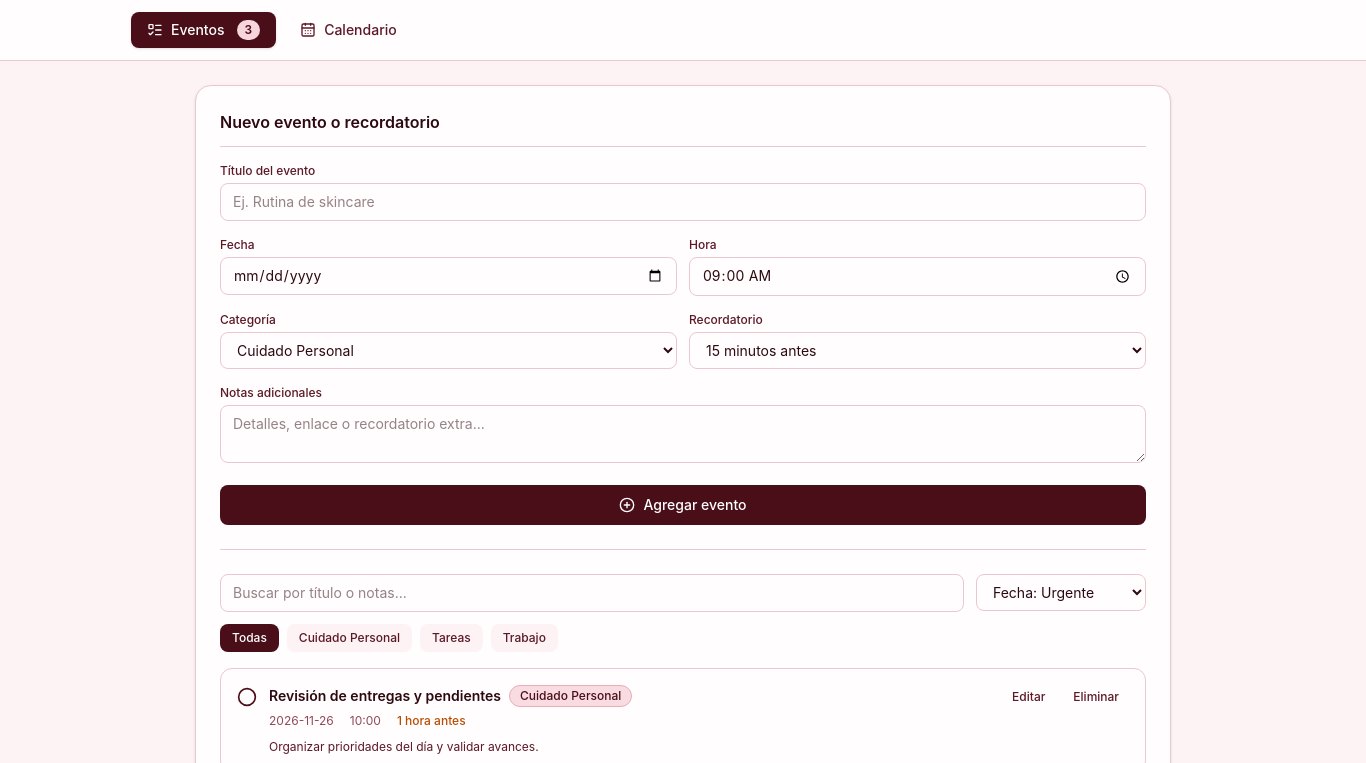
Test: Aplicación de Gestión de Eventos › muestra un mensaje de error si se intenta enviar el formulario vacío
Click the button "Agregar evento". click: (683, 505)
box: [220,485,1146,525]
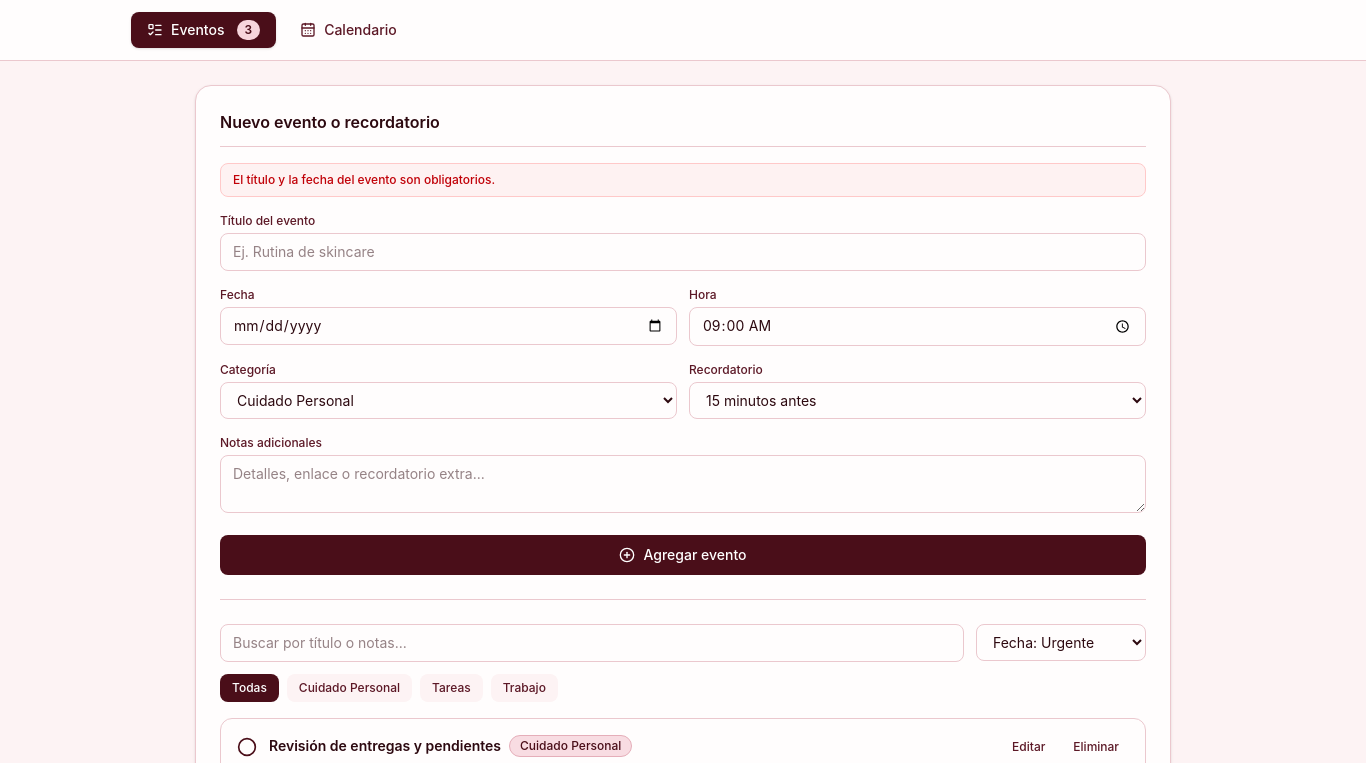
Result: the message shows "El título y la fecha del evento son obligatorios" at [233,172,495,187]
